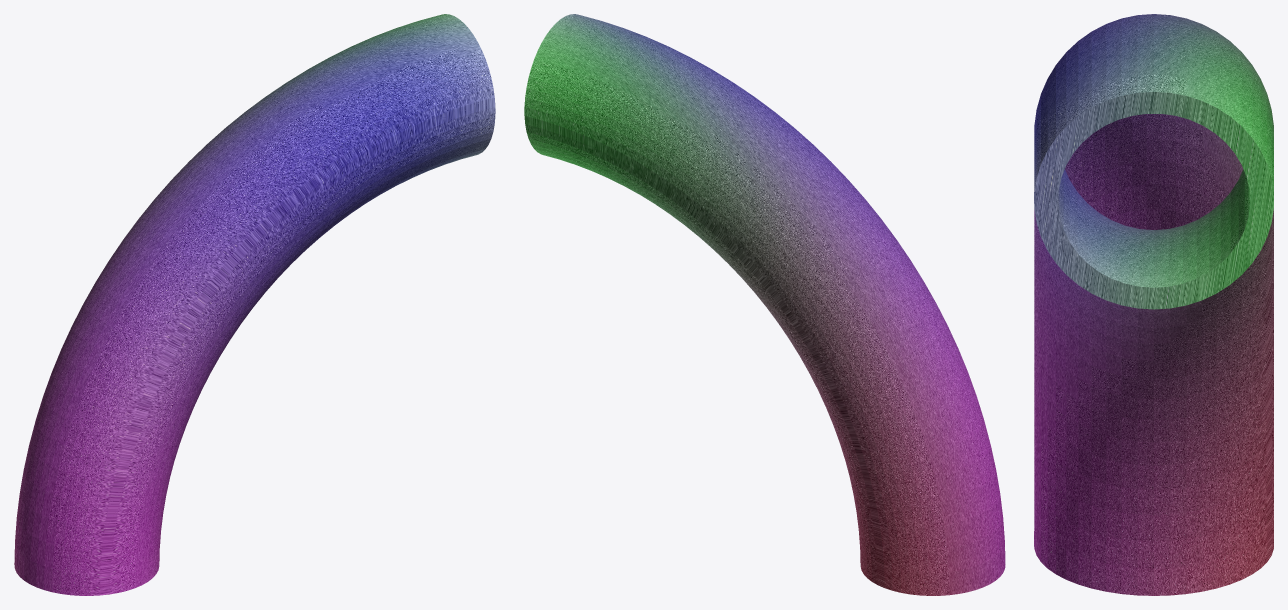
The picture shows the model from 3 angles, left to right: view 1: azimuth 30°, elevation 25°; view 2: azimuth 150°, elevation 25°; view 3: azimuth 270°, elevation 25°; orthographic projection. The views are drawn at different scales.
Visible parts, largest first — view 1: Andrey_tube; view 2: Andrey_tube; view 3: Andrey_tube.
Boxes of the visible parts, box(x1,y1,x2,y2) form: Andrey_tube: box(14, 14, 495, 595); Andrey_tube: box(524, 14, 1005, 595); Andrey_tube: box(1034, 14, 1273, 595).
Size of the model in its own units: 1.3 by 1.3 by 0.3736.
